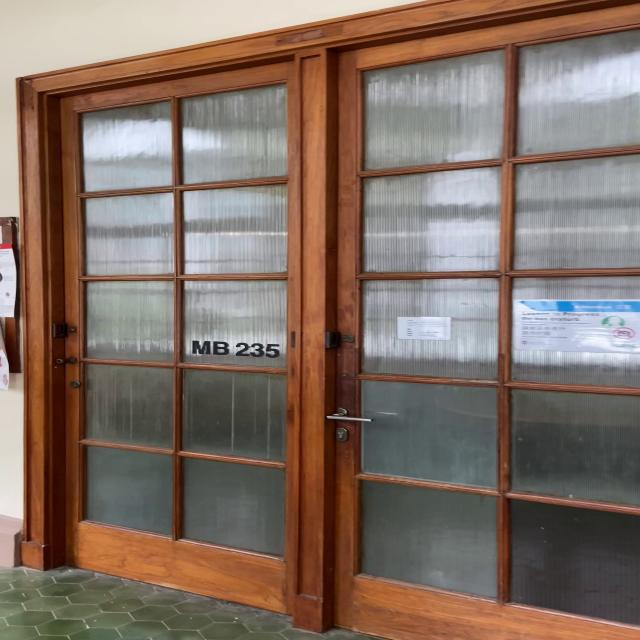room235Window: (186, 336, 285, 360)
